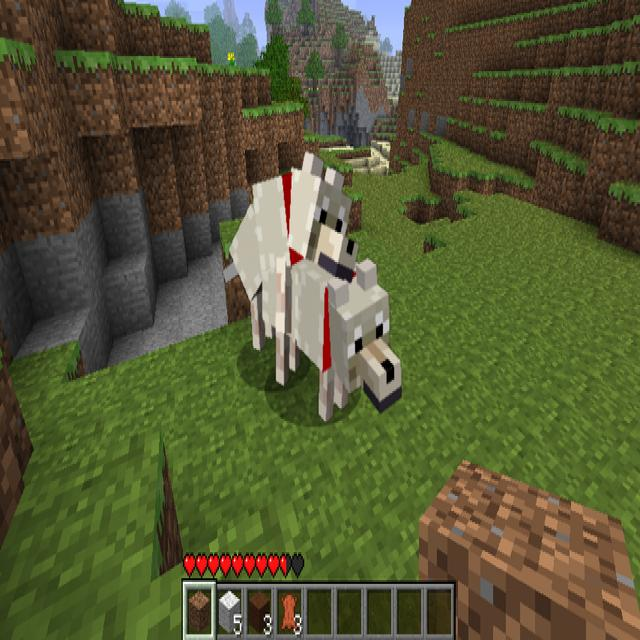Wolf: (231, 152, 356, 351), (270, 255, 403, 426)
